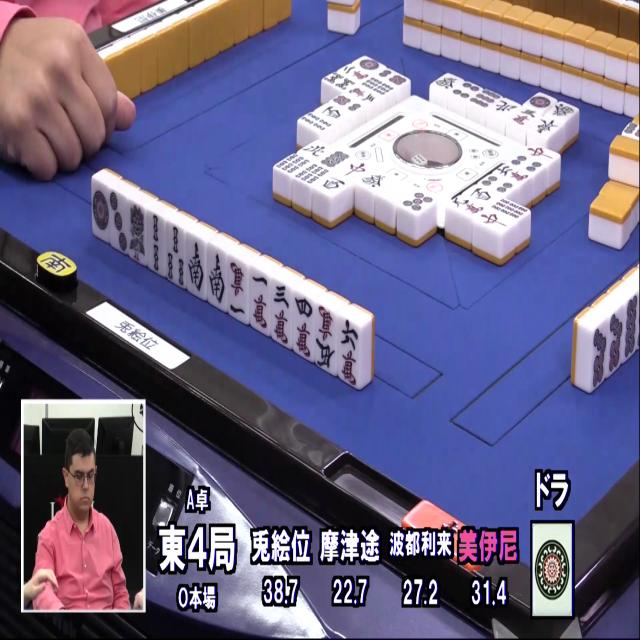1B: (127, 202, 148, 264)
1C: (247, 272, 272, 335), (227, 258, 251, 321)
1D: (534, 528, 570, 612), (93, 182, 112, 239)
2B: (145, 215, 165, 278)
3B: (163, 224, 186, 289)
3C: (269, 284, 294, 350)
3D: (109, 189, 127, 255)
4C: (289, 296, 317, 362)
5C: (312, 306, 338, 374)
6C: (336, 318, 367, 390)
7D: (606, 308, 628, 378), (589, 324, 609, 391)
8D: (623, 291, 640, 360)
SW: (206, 248, 228, 310), (184, 237, 205, 300)
